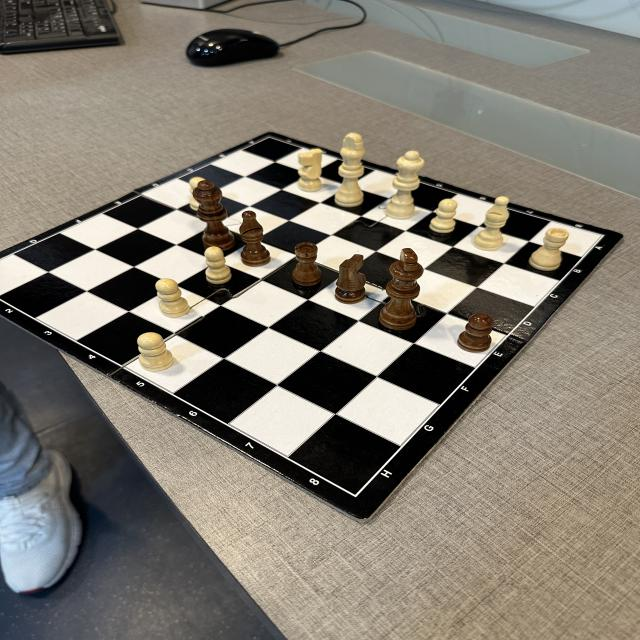Black-Bishop: (240, 210, 270, 267)
Black-King: (380, 248, 422, 330)
Black-Knight: (334, 253, 364, 304)
Black-Pawn: (457, 312, 495, 354)
Black-Queen: (193, 182, 234, 251)
Black-Rook: (292, 241, 318, 285)
White-Bishop: (473, 196, 509, 252)
White-King: (335, 132, 366, 207)
White-Knight: (295, 148, 324, 192)
White-Pawn: (155, 277, 190, 318), (138, 332, 173, 371), (204, 246, 232, 284), (429, 198, 457, 234), (190, 176, 203, 211)
White-Queen: (384, 150, 424, 219)
White-Rook: (530, 228, 568, 271)
